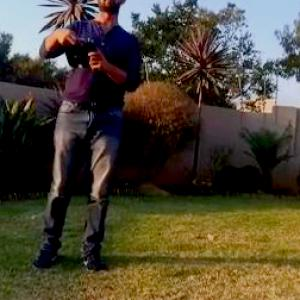follow: (27, 0, 146, 276)
